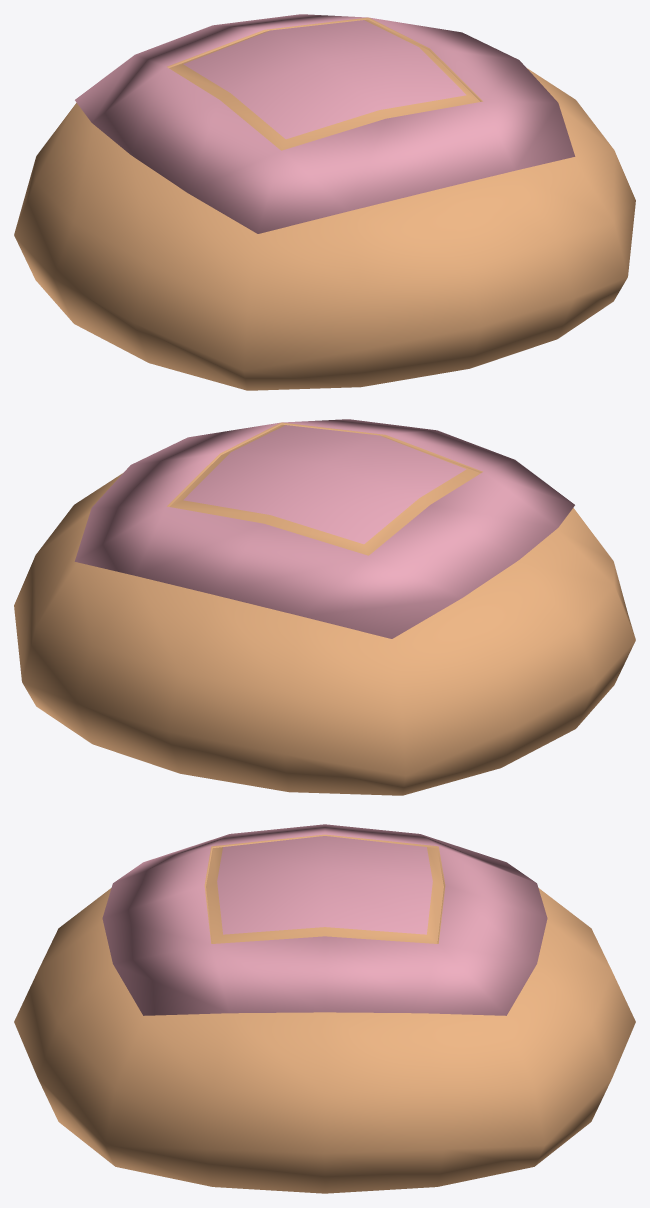
Rendered from concha.fbx.
3 views of the same model, one above another, from view 1: azimuth 30°, elevation 25°; view 2: azimuth 150°, elevation 25°; view 3: azimuth 270°, elevation 25° (orthographic).
Visible parts, largest first — view 1: Concha; view 2: Concha; view 3: Concha.
Boxes of the visible parts, <box> form: Concha: <box>14,14,635,390</box>; Concha: <box>14,419,635,795</box>; Concha: <box>14,824,635,1193</box>.
Size of the model in its own units: 21.05 by 7.9 by 21.05.
